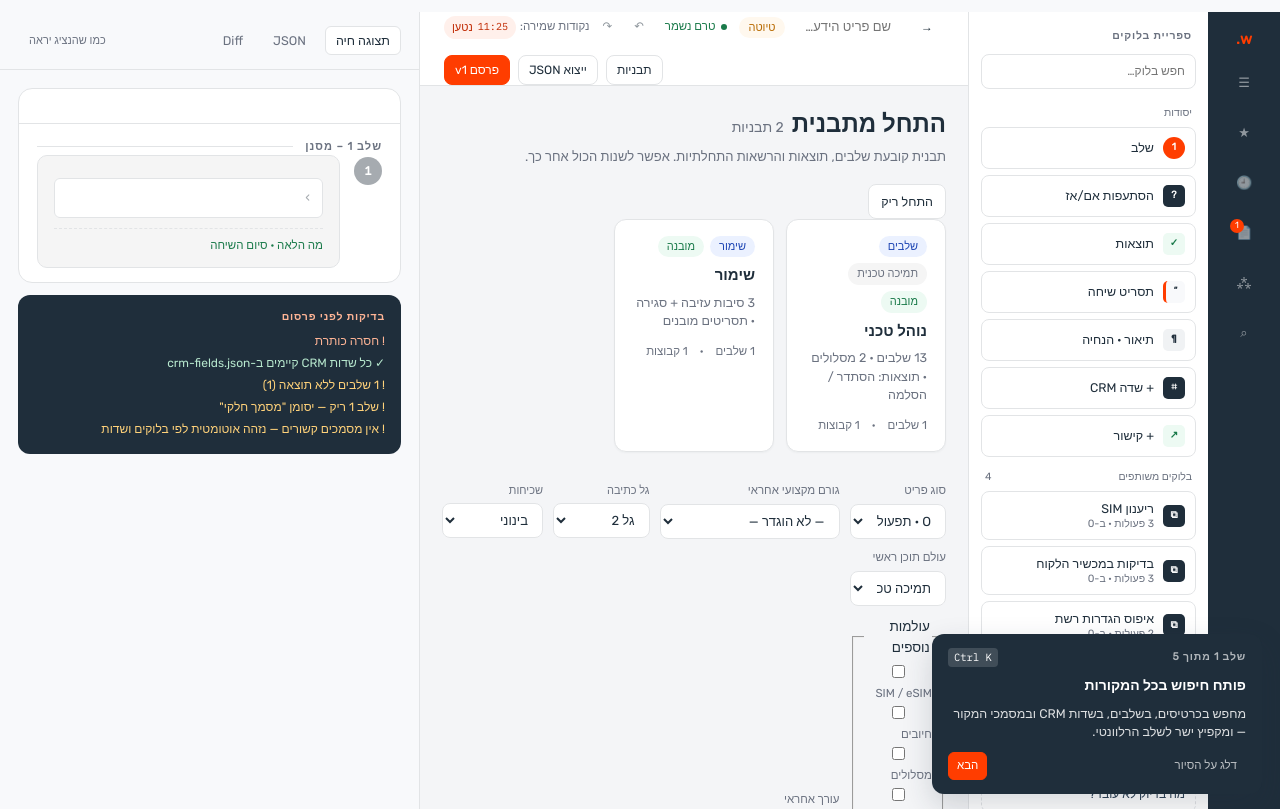
Scenario: template gallery › offers templates for an empty new document and applies one
The width and height of the screenshot is (1280, 809).
Click the button with aria-label "התחל מתבנית נוהל טכני". click: coordinates (866, 335)
box: 786,219 -> 946,452
(page scrolled)
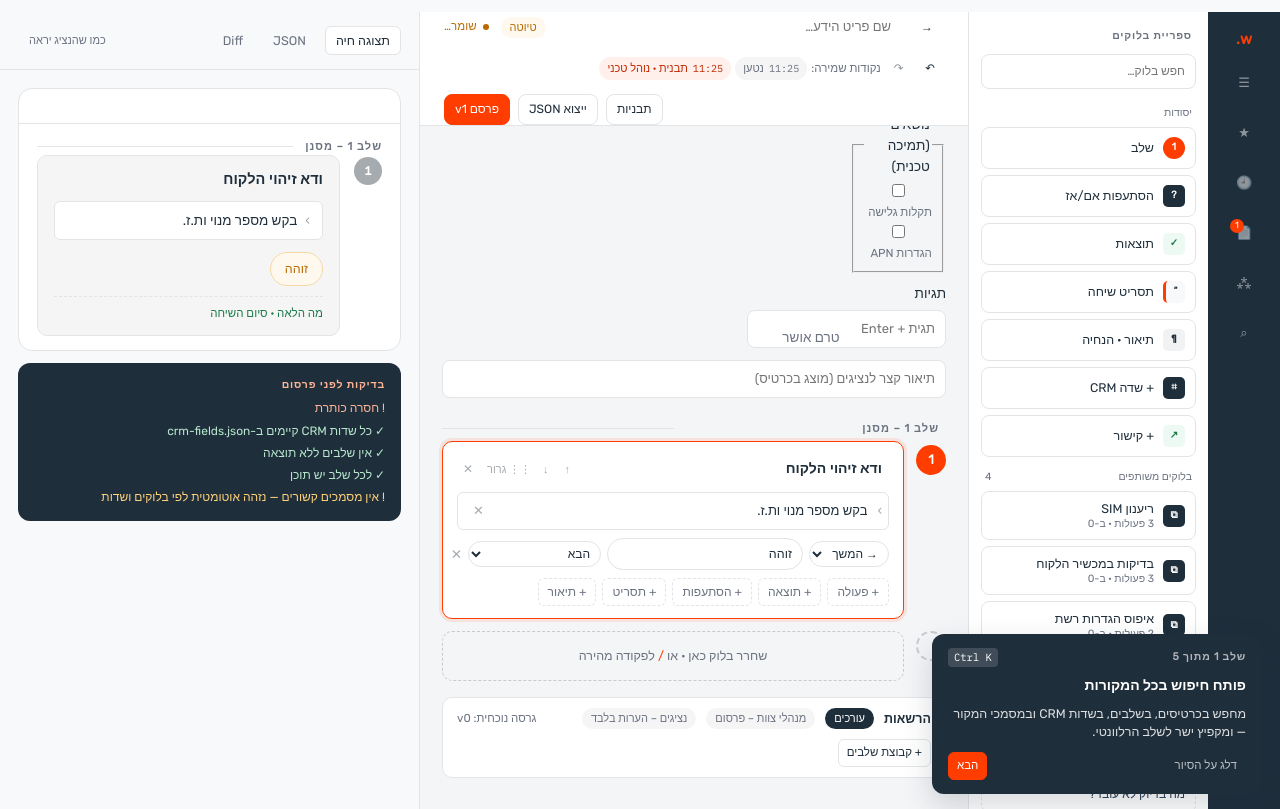
Check: the heading "התחל מתבנית" is gone
Check: the field showing "ודא זיהוי הלקוח" is shown, box 582,454 -> 889,484
